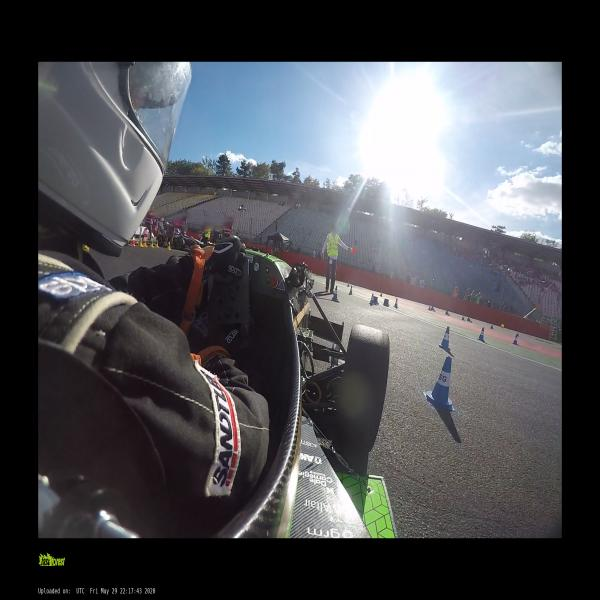blue_cone: (427, 356, 455, 411), (438, 326, 451, 351), (477, 328, 485, 342), (332, 285, 338, 302), (368, 293, 375, 306), (392, 298, 398, 309), (383, 298, 390, 307), (513, 334, 518, 346), (373, 296, 379, 306), (348, 285, 353, 295), (431, 306, 436, 312), (467, 317, 472, 323), (490, 323, 494, 330), (445, 311, 450, 316), (461, 315, 465, 321), (380, 289, 382, 297), (347, 282, 349, 287), (428, 306, 430, 310)
large_orange_cone: (143, 227, 148, 246), (130, 228, 134, 246)
yellow_cone: (167, 241, 172, 250), (155, 239, 159, 248), (150, 239, 154, 248), (144, 239, 148, 247), (140, 240, 143, 247)
